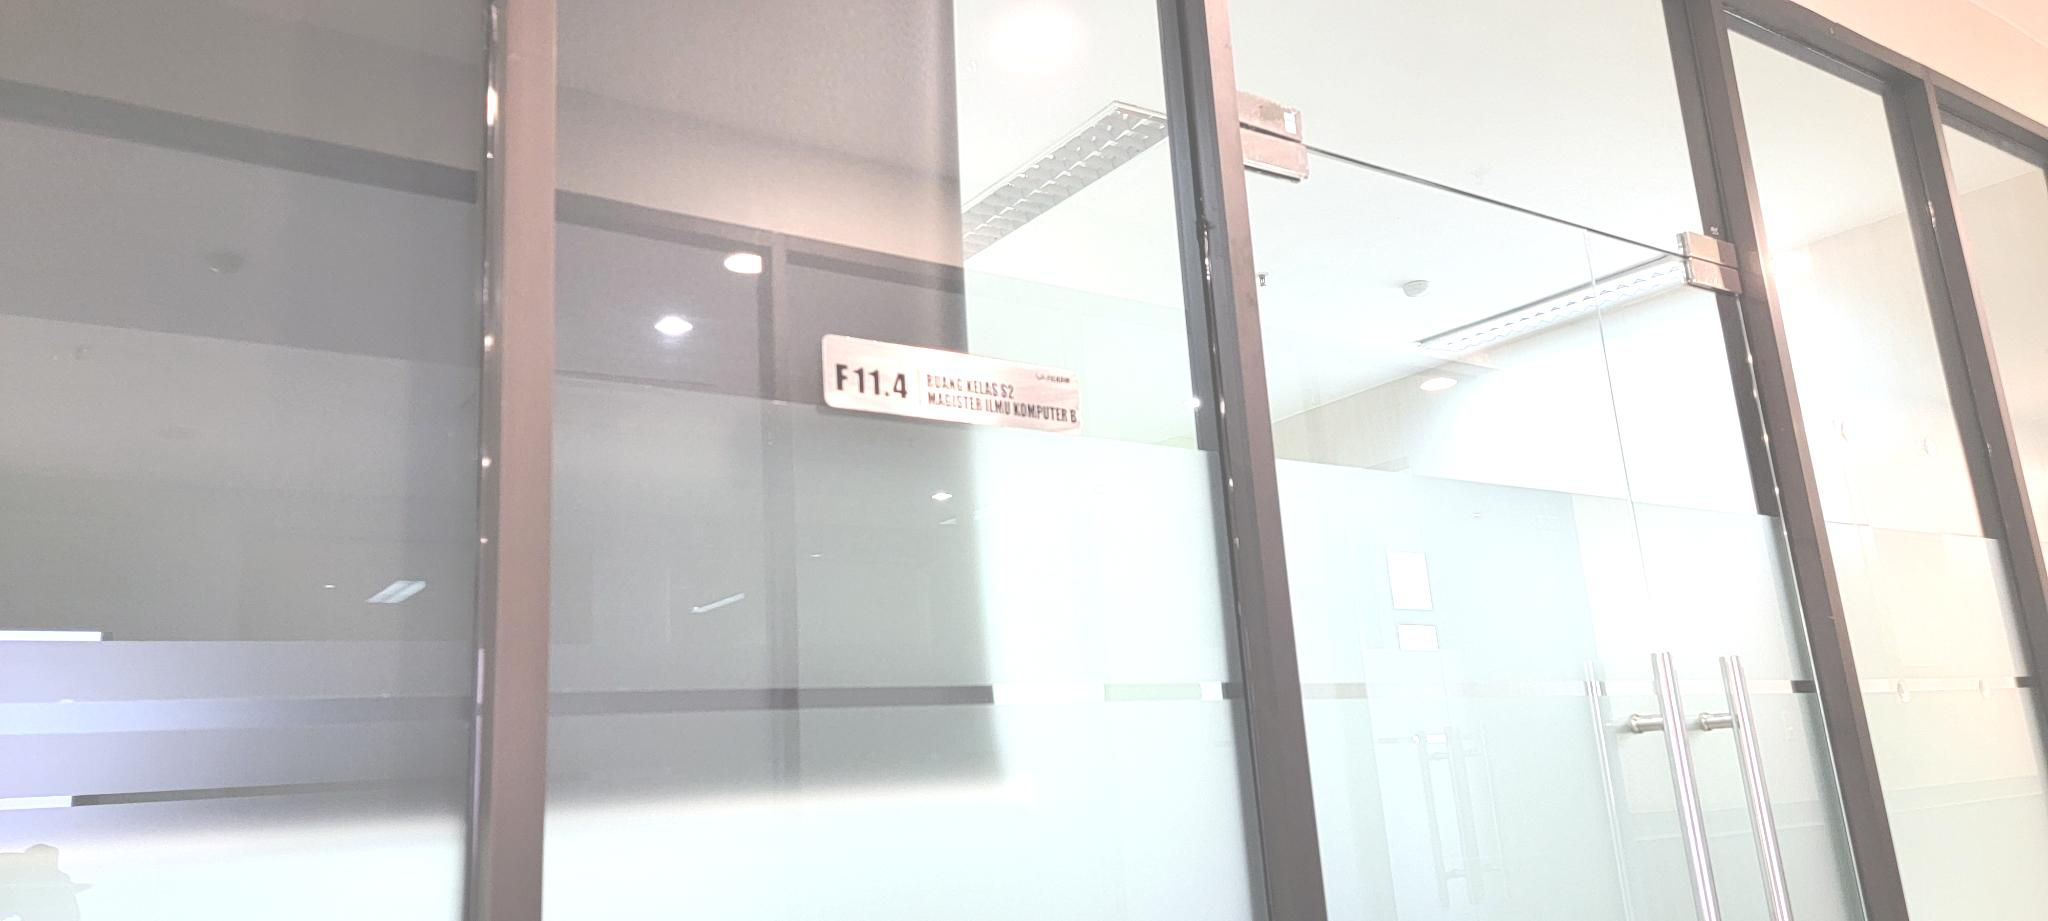plate: (822, 334, 1081, 436)
